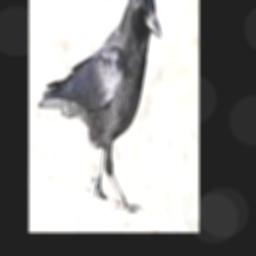Crow: (37, 0, 161, 213)
